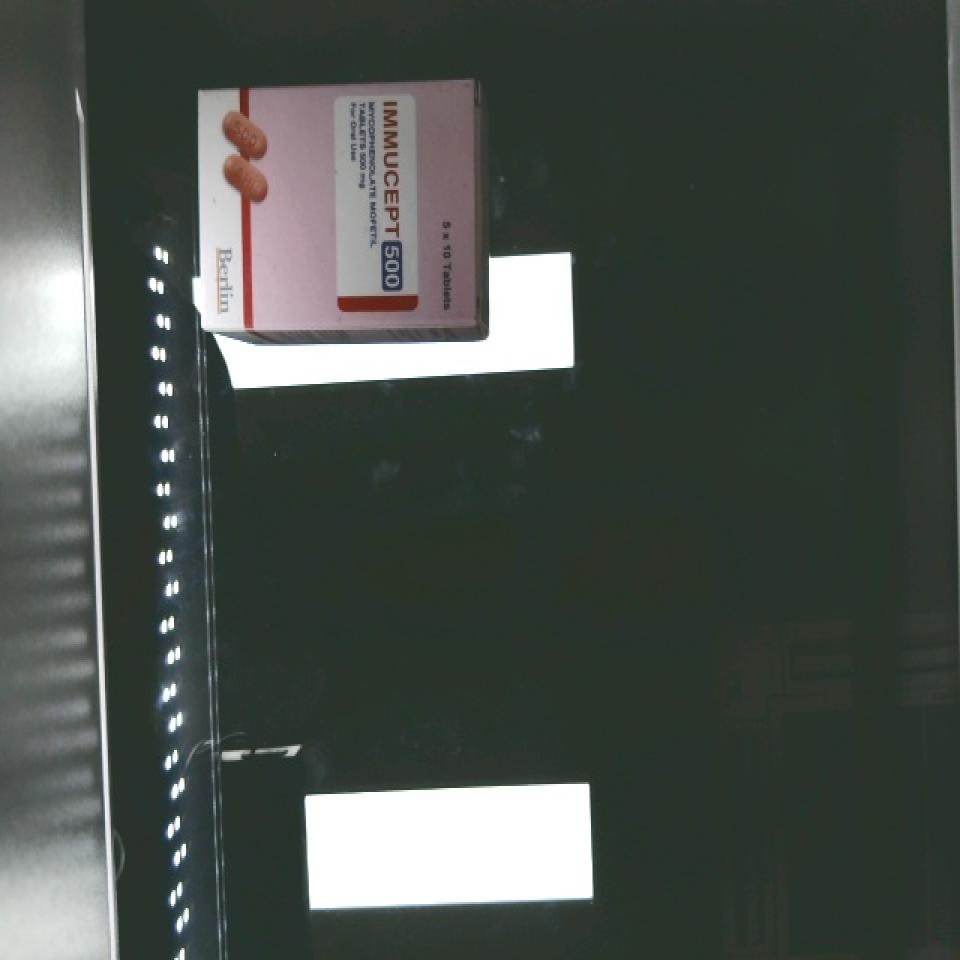medicine_box: (194, 78, 481, 332)
medicine_label_obb: (372, 94, 416, 306)
